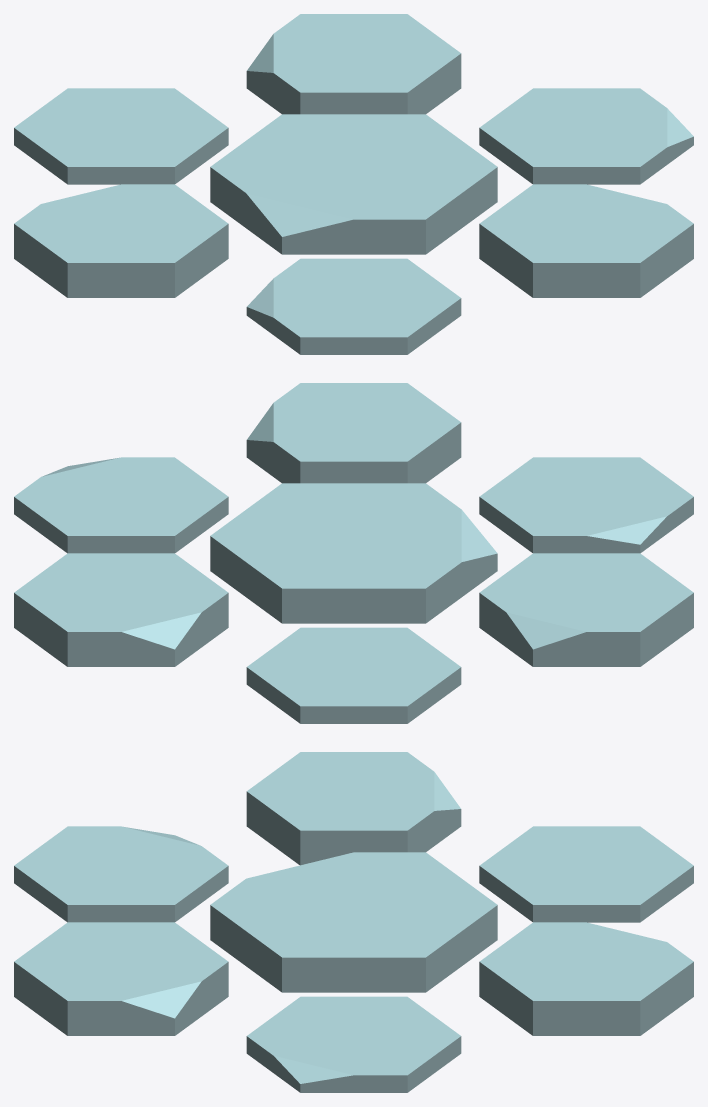
The model's file is path_stoneCircle.dae.
3 views of the same model, one above another, from view 1: azimuth 30°, elevation 25°; view 2: azimuth 150°, elevation 25°; view 3: azimuth 270°, elevation 25° (orthographic).
Visible parts, largest first — view 1: path_stoneCircle; view 2: path_stoneCircle; view 3: path_stoneCircle.
Boxes of the visible parts, box(x1,y1,x2,y2) form: path_stoneCircle: box(14, 14, 693, 354); path_stoneCircle: box(14, 383, 693, 723); path_stoneCircle: box(14, 752, 693, 1092).
Size of the model in its own units: 0.9324 by 0.05 by 0.8766.
